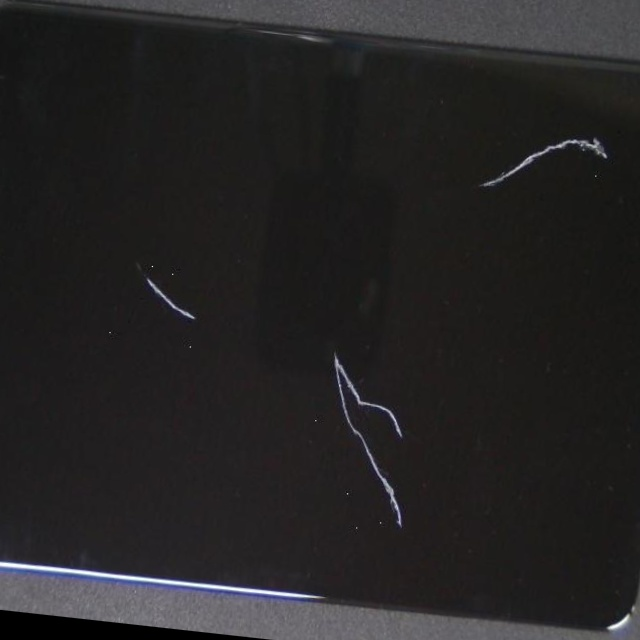scratch: (46, 57, 591, 640), (207, 3, 640, 318), (0, 66, 263, 519)
